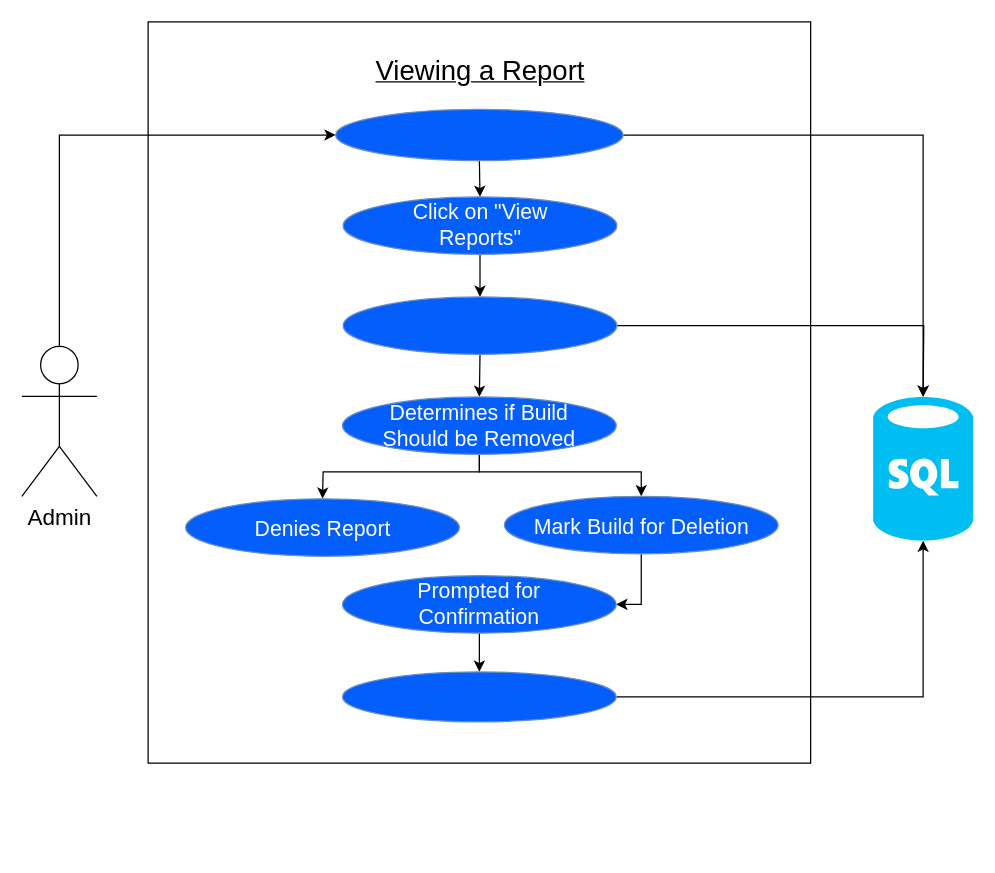
This 995x873 diagram has some shape labels left out. The centre of each missing label's shape, as x and y in pixels:
"Selects a Report" goes at point 479,325.
"Signs In" goes at point 478,134.
"Submits" goes at point 478,696.
